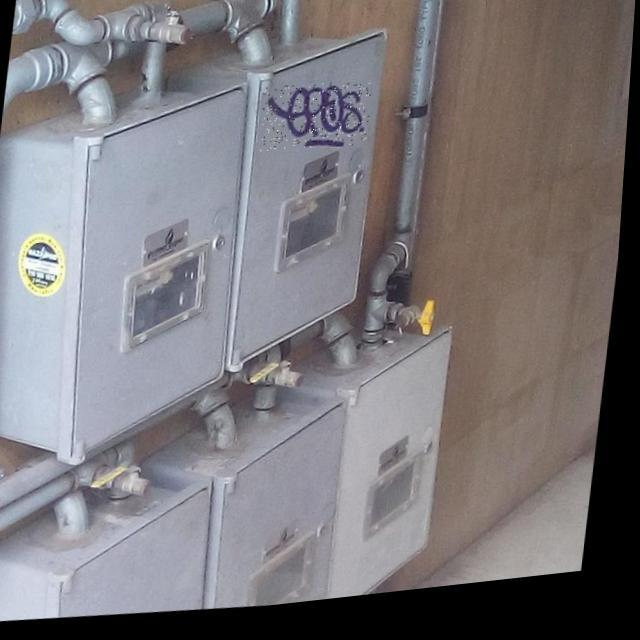-: (260, 84, 376, 164)
